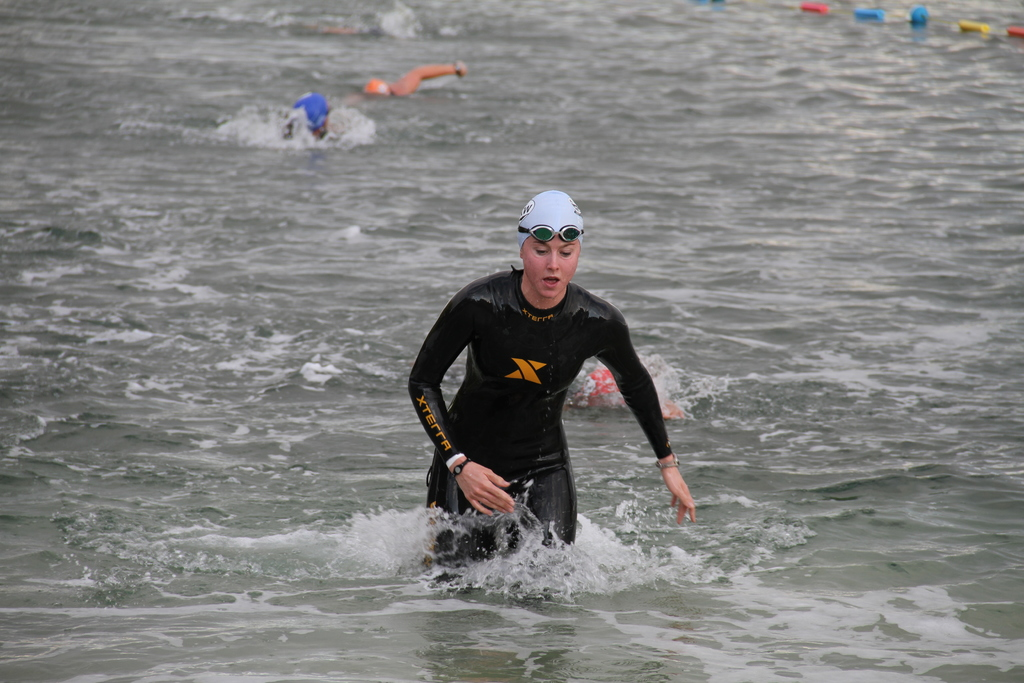Person: (407, 189, 694, 584)
